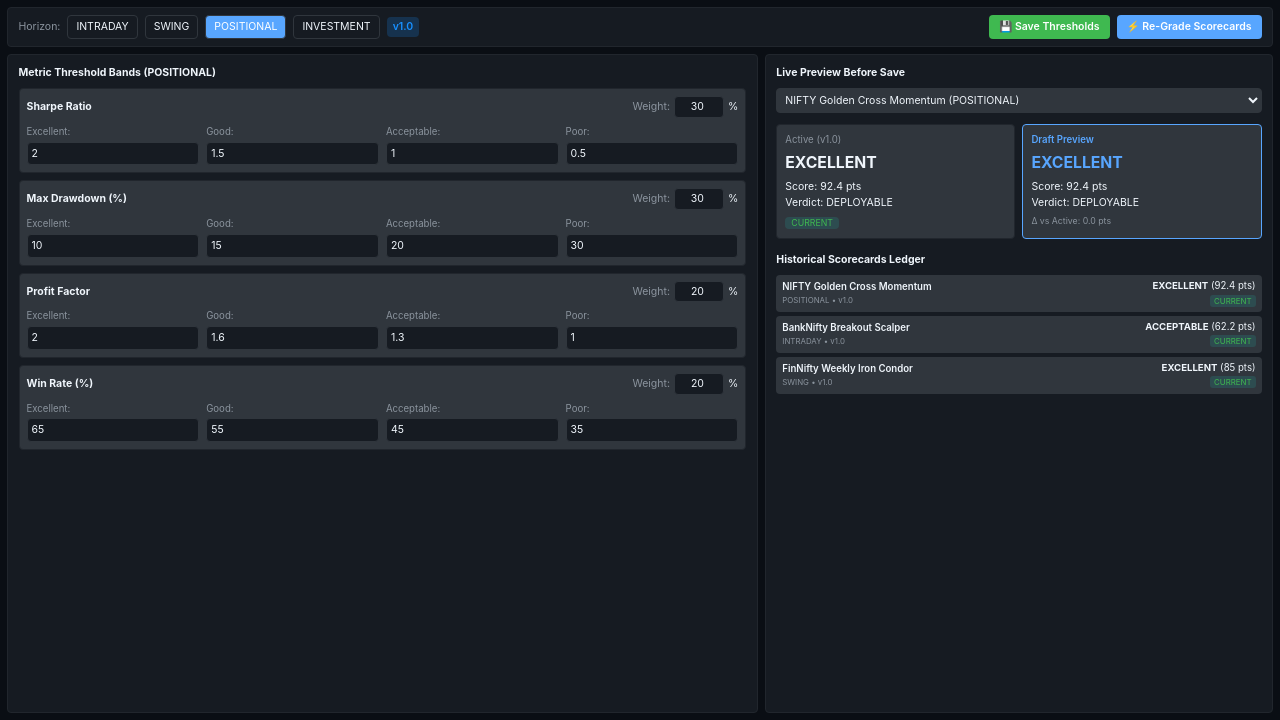
Test: GradingThresholdsWidget Component › displays validation error when entering an invalid non-monotonic threshold
The width and height of the screenshot is (1280, 720).
Replace the text in the number field named "Sharpe Ratio excellent" with "0.2" at {"x": 113, "y": 153}, box [26,142,199,165]
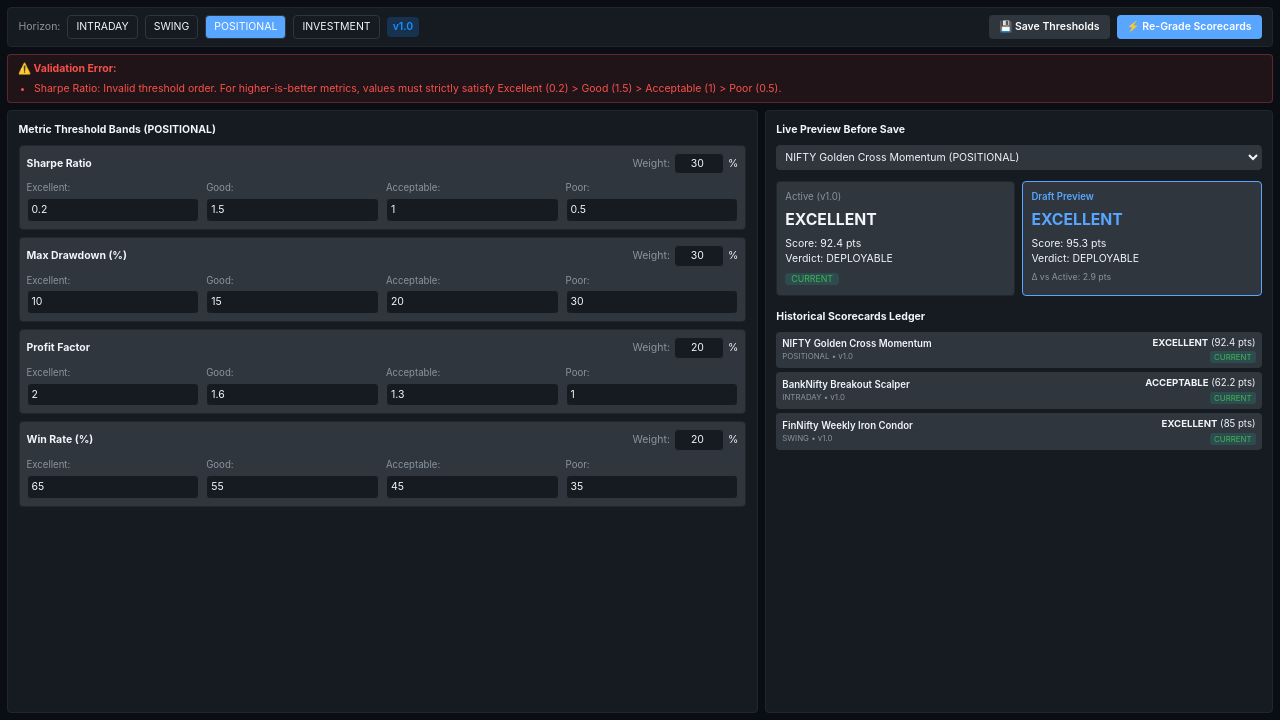
Now the element with test id "validation-error-banner" is shown, box [7,54,1273,103]
Now the list item "Invalid threshold order" is shown, box [34,82,782,94]
Now the button with test id "btn-save-thresholds" is disabled, box [989,15,1110,39]
